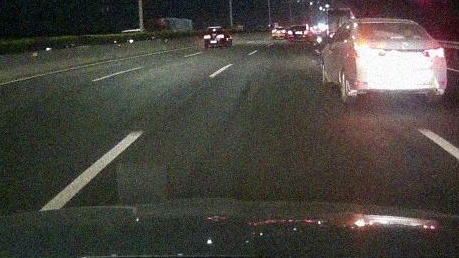L_light: (354, 45, 379, 59), (204, 35, 211, 39)
R_light: (422, 46, 444, 58), (217, 35, 224, 38)
T_light: (382, 23, 398, 25), (213, 30, 218, 31)
night-no: (352, 19, 447, 104), (204, 28, 225, 49)
